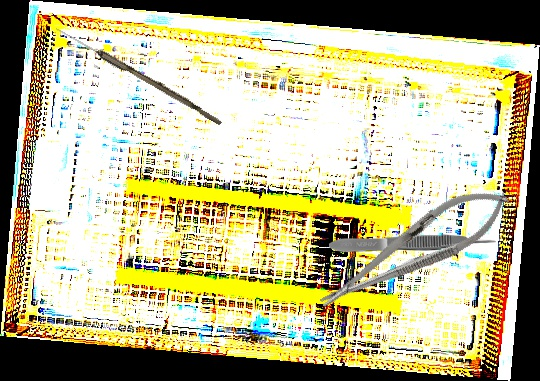Needle Holder: (307, 172, 520, 326)
Surgical Spoon: (53, 25, 225, 126)
Tissue Forceps: (328, 233, 497, 254)
